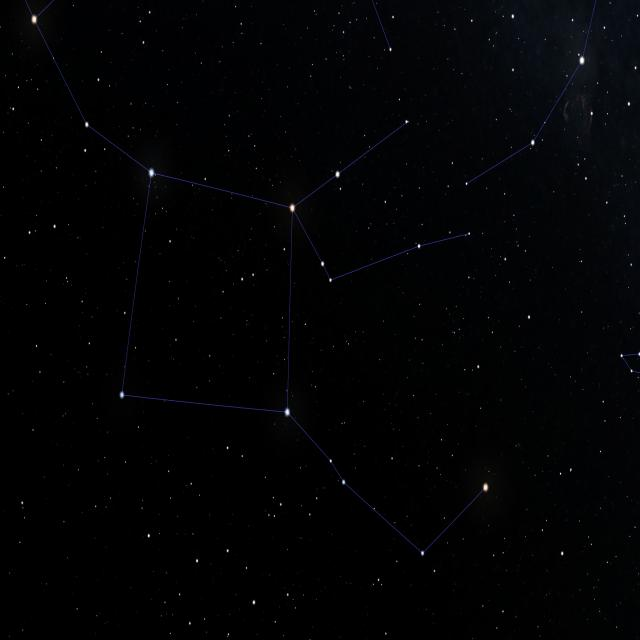Pegasus: (118, 114, 490, 562)
